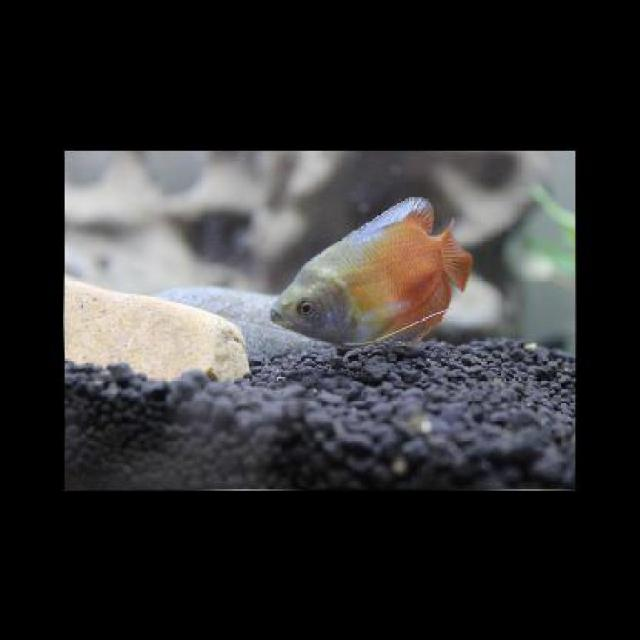Gourami: (268, 195, 470, 343)
